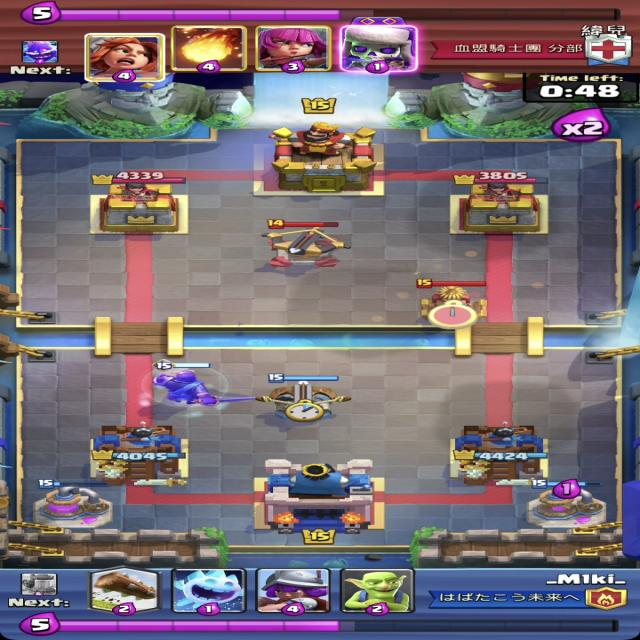Enemy-Tesla: (416, 278, 486, 323)
Enemy-XBow: (259, 220, 353, 268)
Player-ElixirPump: (525, 478, 609, 530), (31, 479, 115, 530)
Player-Knight-Evo: (144, 360, 258, 410)
Player-XBow: (254, 373, 356, 423)
